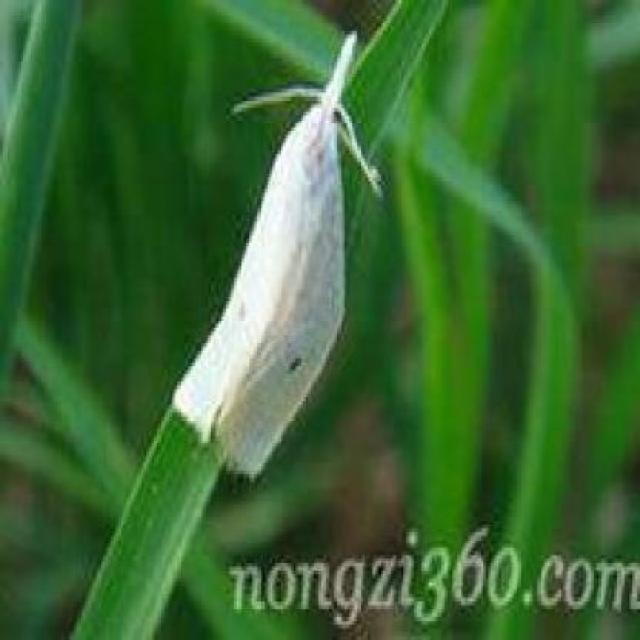stem-borer: (164, 28, 387, 498)
